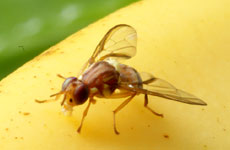Fruit fly: (56, 27, 186, 139)
